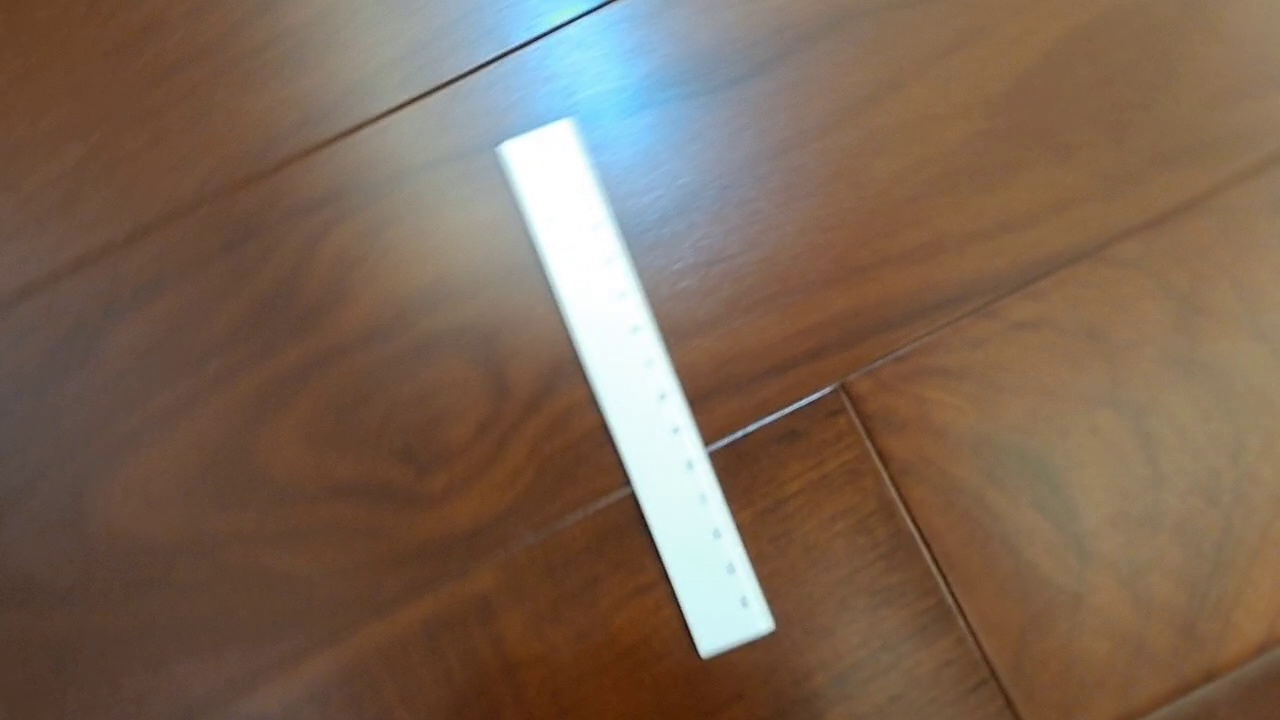ruler: (492, 115, 778, 663)
